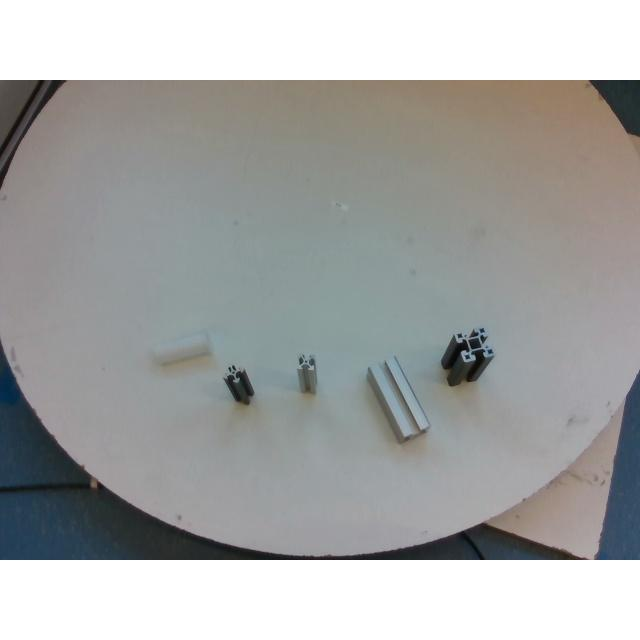F20_20_B: (223, 364, 253, 404)
F20_20_G: (296, 353, 316, 393)
S40_40_B: (442, 326, 494, 386)
S40_40_G: (369, 355, 429, 441)
Spacer: (152, 332, 212, 364)
